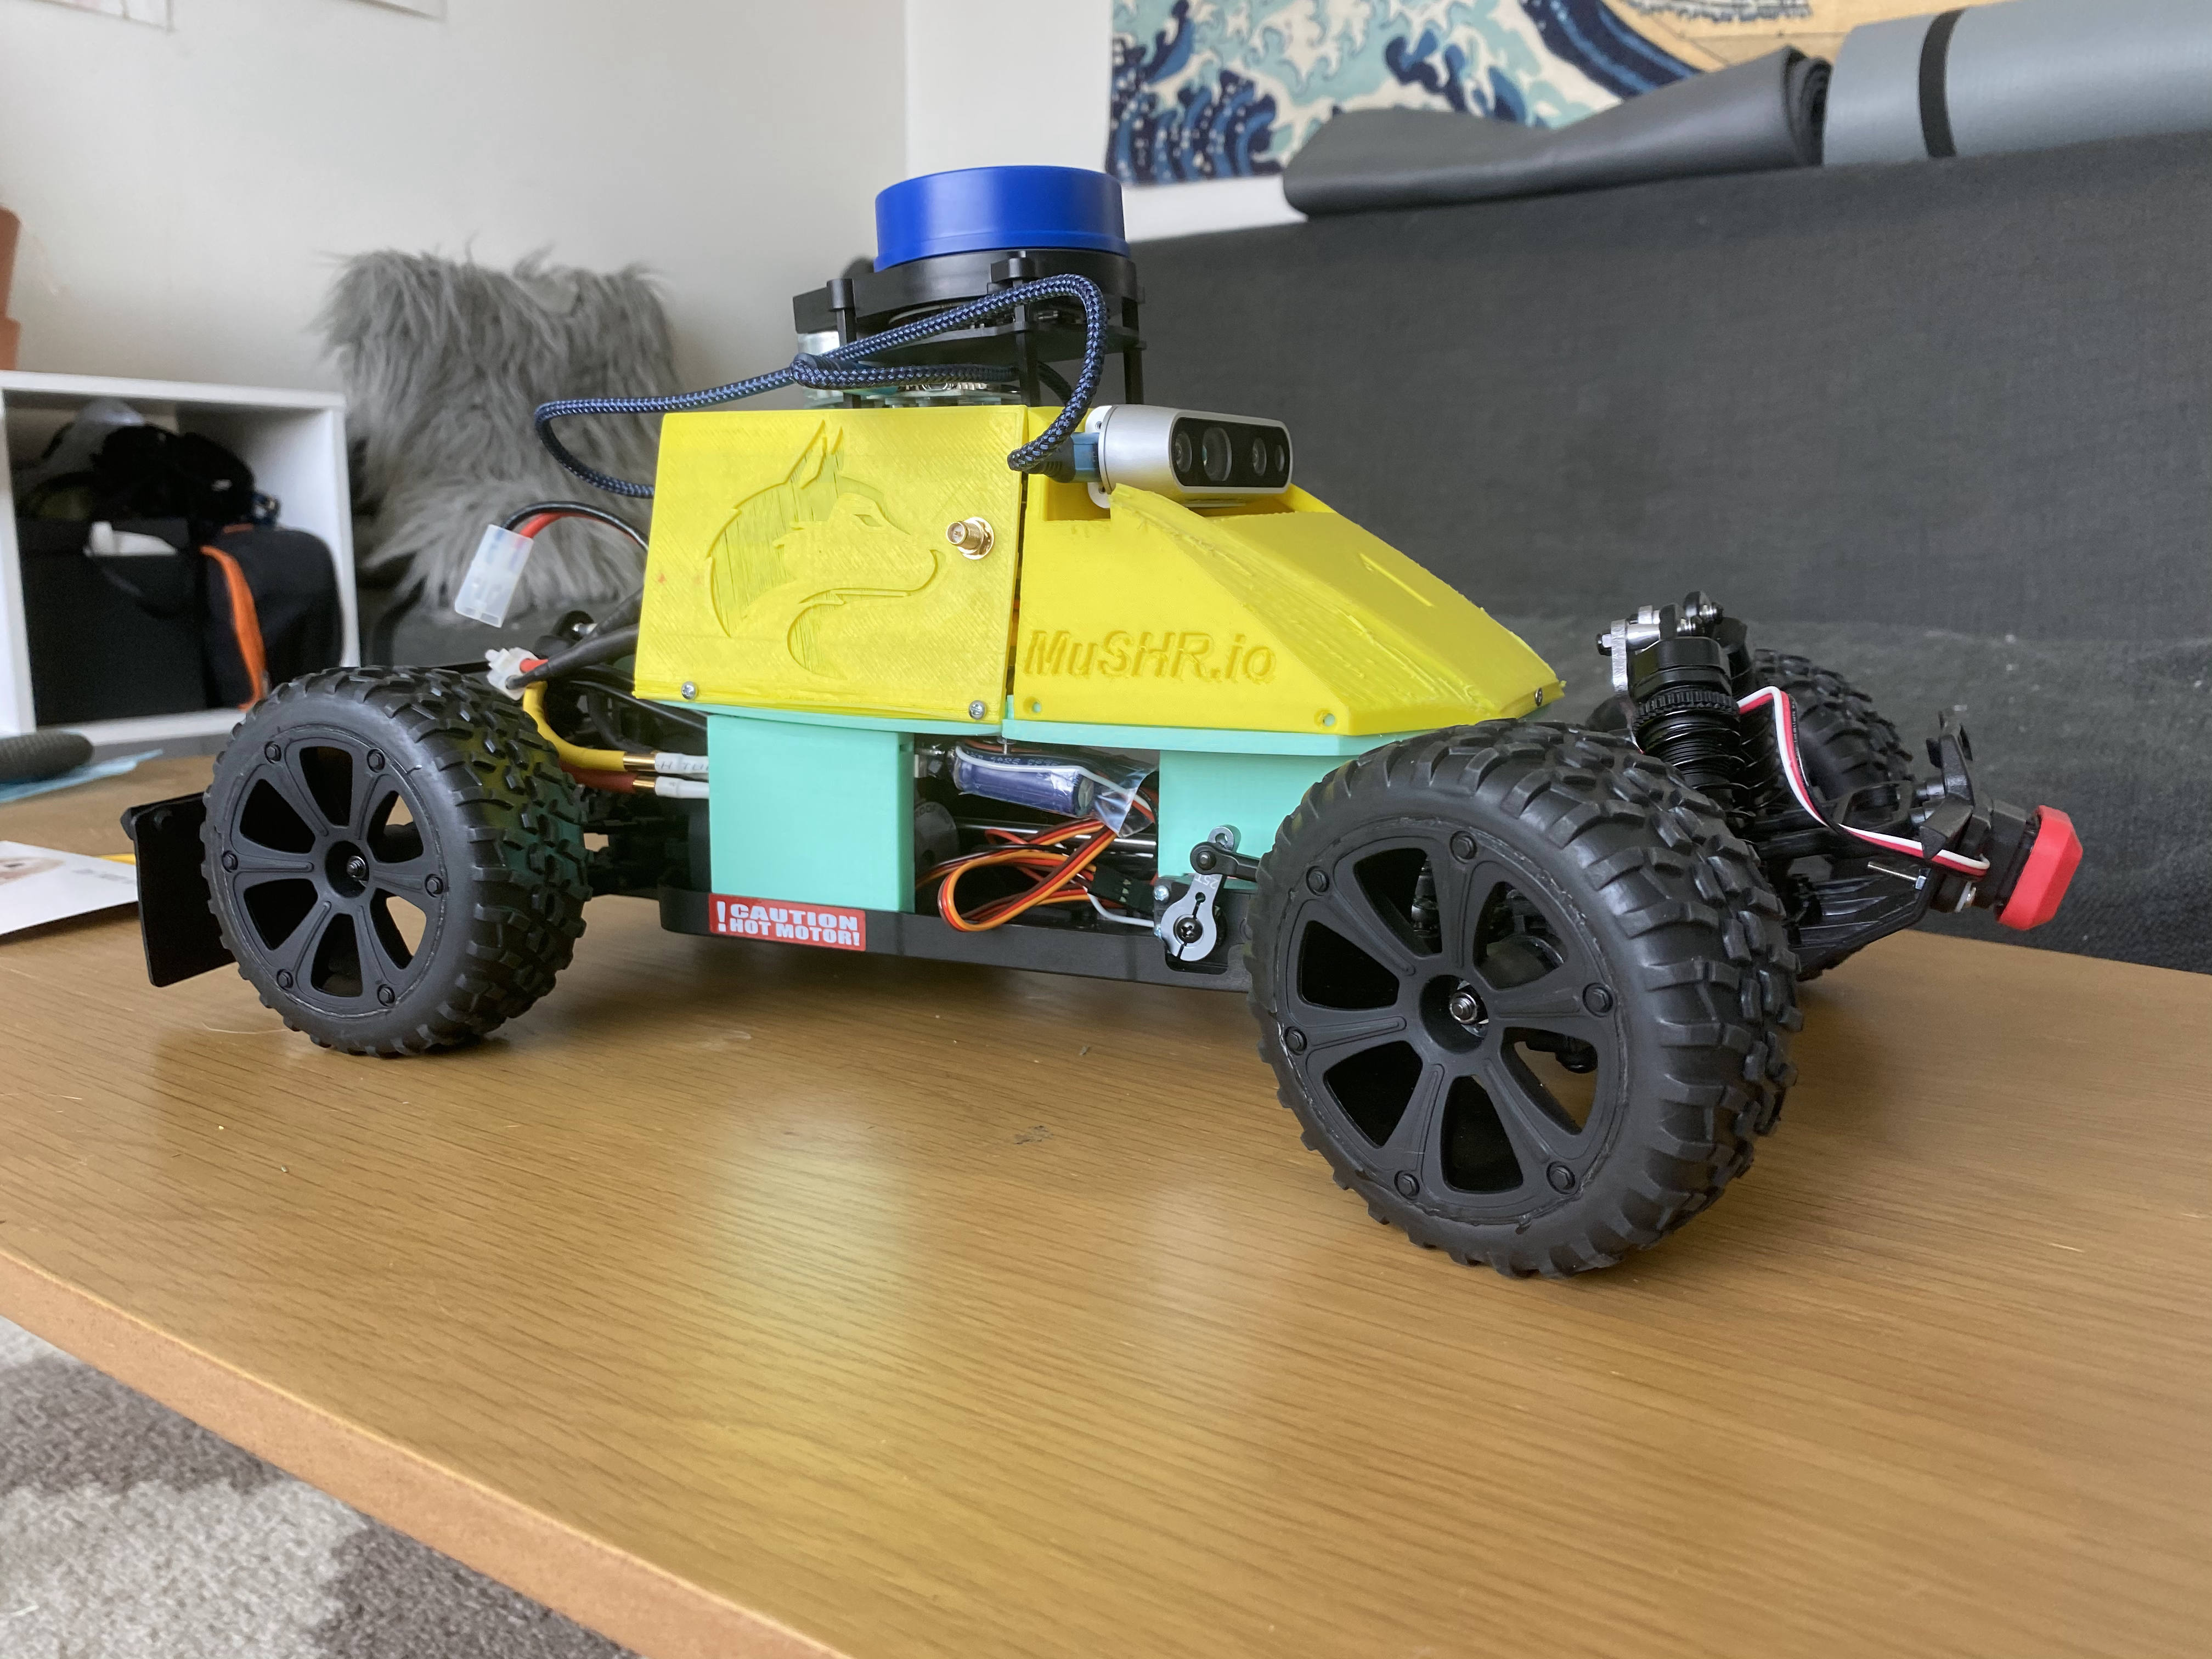mushr_car: (115, 153, 2090, 1298)
